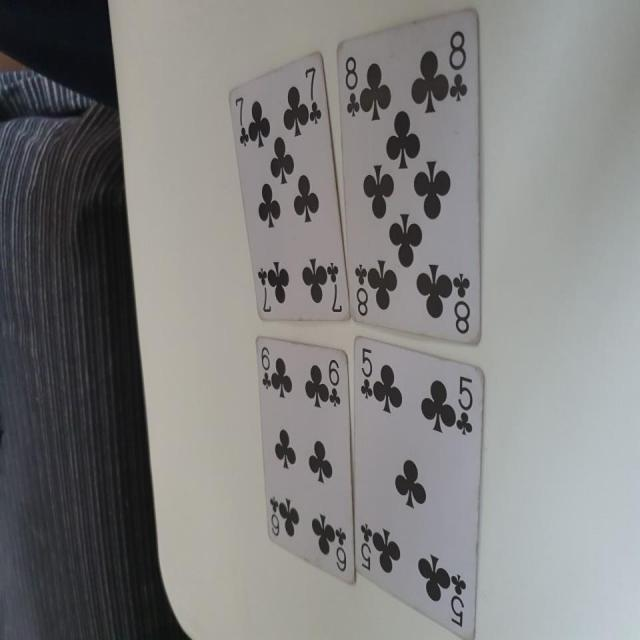5 of clubs: (348, 338, 487, 640)
6 of clubs: (253, 338, 358, 590)
7 of clubs: (226, 52, 350, 326)
8 of clubs: (336, 8, 484, 346)
